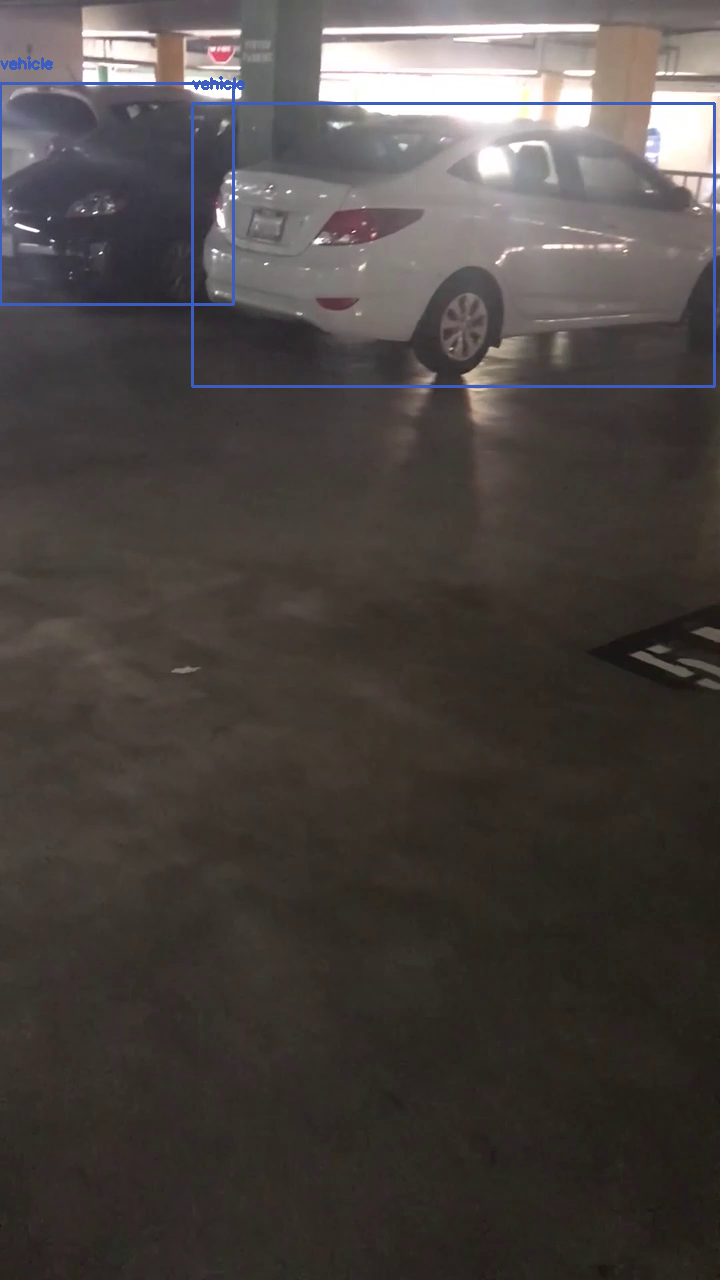vehicle: (192, 103, 714, 386), (0, 83, 233, 304)
